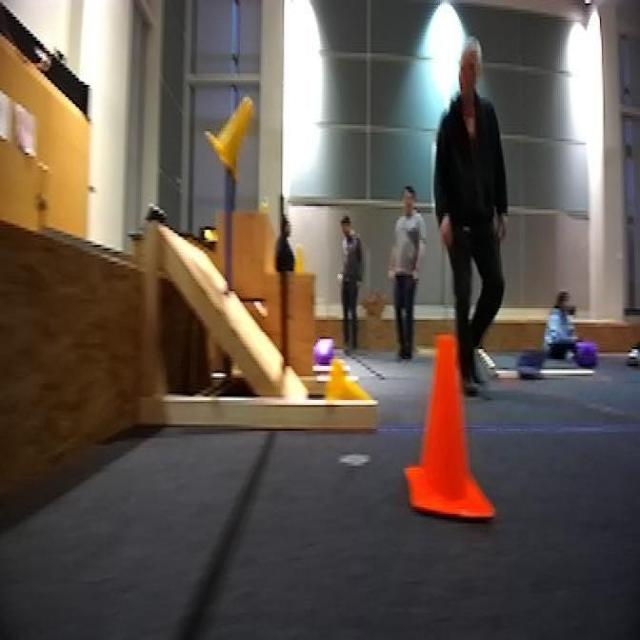frc_cone: (202, 94, 256, 182), (326, 356, 372, 402), (295, 242, 308, 272)
frc_cube: (570, 337, 598, 369), (316, 335, 335, 371)
